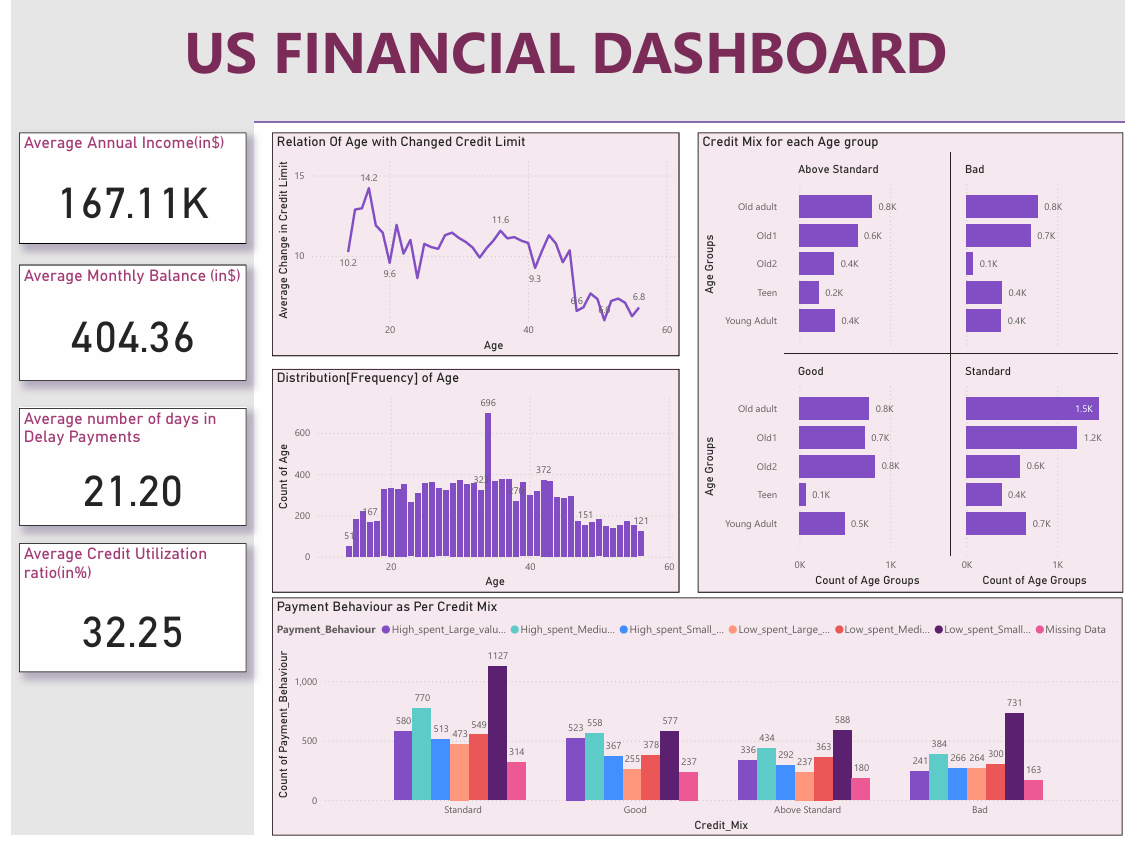

The page's visual inventory and layout, read from the dashboard file:
{"tool":"powerbi","page":{"name":"Page 1","canvas":[1400,1100],"ordinal":0},"visuals":[{"type":"shape","box":[0,0,1400.7,176.7],"z":0},{"type":"shape","box":[0,9.1,304.5,1062.7],"z":1000},{"type":"textbox","box":[104.6,31.8,1184.4,123.3],"z":2000},{"type":"card","title":"Average Annual Income(in$)","fields":{"Values":["Avg(combined_df.Annual_Income)"]},"box":[10,190,286,140],"z":3000},{"type":"card","title":"Average Monthly Balance (in$)","fields":{"Values":["Avg(combined_df.Monthly_Balance)"]},"box":[10,356,286,146],"z":4000},{"type":"card","title":"Average number of days  in Delay Payments","fields":{"Values":["Avg(combined_df.Delay_from_due_date)"]},"box":[10,536,286,148],"z":5000},{"type":"card","title":"Average Credit Utilization ratio(in%)","fields":{"Values":["Avg(combined_df.Credit_Utilization_Ratio)"]},"box":[10,706,286,162],"z":6000},{"type":"lineChart","title":"Relation Of Age with Changed  Credit Limit","fields":{"Category":["combined_df.Age"],"Y":["Avg(combined_df.Changed_Credit_Limit)"]},"box":[327.7,189.5,512.4,281.1],"z":7000},{"type":"clusteredColumnChart","title":"Distribution[Frequency] of Age ","fields":{"Category":["combined_df.Age"],"Y":["CountNonNull(combined_df.Age)"]},"box":[327.7,486.7,512.4,281.1],"z":8000},{"type":"clusteredBarChart","title":"Credit Mix for each Age group","fields":{"Category":["combined_df.Age Groups"],"Y":["CountNonNull(combined_df.Age Groups)"],"Rows":["combined_df.Credit_Mix"]},"box":[863.3,190,535,578.3],"z":9000},{"type":"clusteredColumnChart","title":"Payment Behaviour as Per Credit Mix","fields":{"Category":["combined_df.Credit_Mix"],"Y":["CountNonNull(combined_df.Payment_Behaviour)"],"Series":["combined_df.Payment_Behaviour"]},"box":[327.7,774.2,1069.8,298.8],"z":10000}]}

Visuals, with their boxes on the page's 1400x1100 design canvas (x1, y1, x2, y2). These are canvas units, not pixel positions in the 1138x847 screenshot, which may show the page scaled, cropped or inside an application window:
shape: box(0, 0, 1401, 177)
shape: box(0, 9, 304, 1072)
textbox: box(105, 32, 1289, 155)
"Average Annual Income(in$)" card: box(10, 190, 296, 330)
"Average Monthly Balance (in$)" card: box(10, 356, 296, 502)
"Average number of days  in Delay Payments" card: box(10, 536, 296, 684)
"Average Credit Utilization ratio(in%)" card: box(10, 706, 296, 868)
"Relation Of Age with Changed  Credit Limit" lineChart: box(328, 190, 840, 471)
"Distribution[Frequency] of Age " clusteredColumnChart: box(328, 487, 840, 768)
"Credit Mix for each Age group" clusteredBarChart: box(863, 190, 1398, 768)
"Payment Behaviour as Per Credit Mix" clusteredColumnChart: box(328, 774, 1398, 1073)
